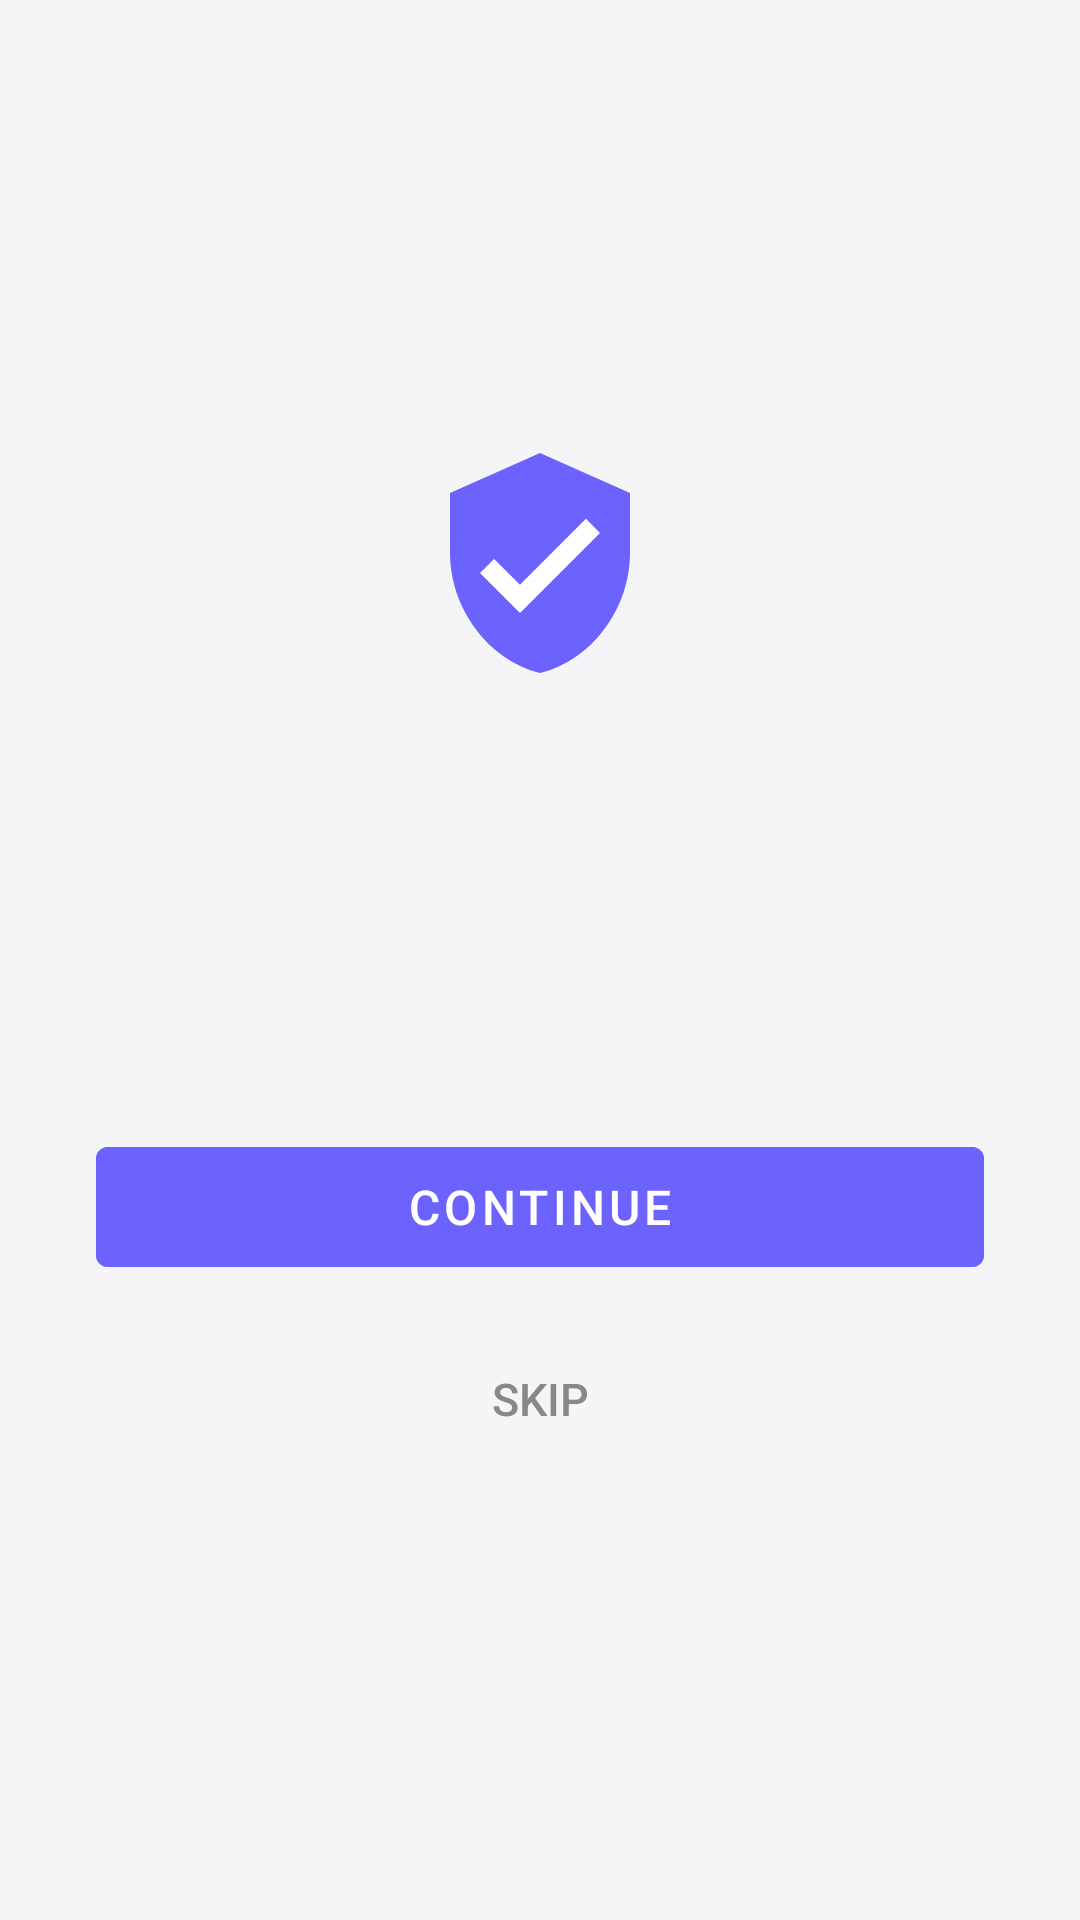

Named icons in this screenshot (1080px x 1920px) and their bounding boxes, (x1, y1, x2, y2):
shield: (450, 453, 630, 673)
